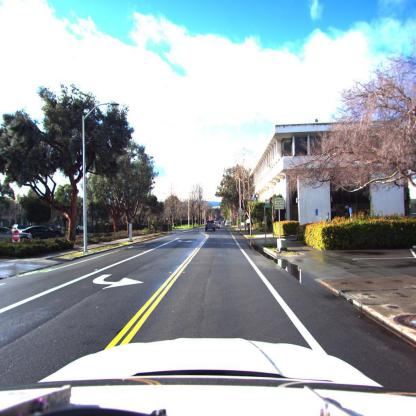car: (20, 226, 64, 240), (204, 221, 217, 231), (224, 219, 231, 228)
sign: (273, 196, 285, 209), (12, 229, 20, 243)
